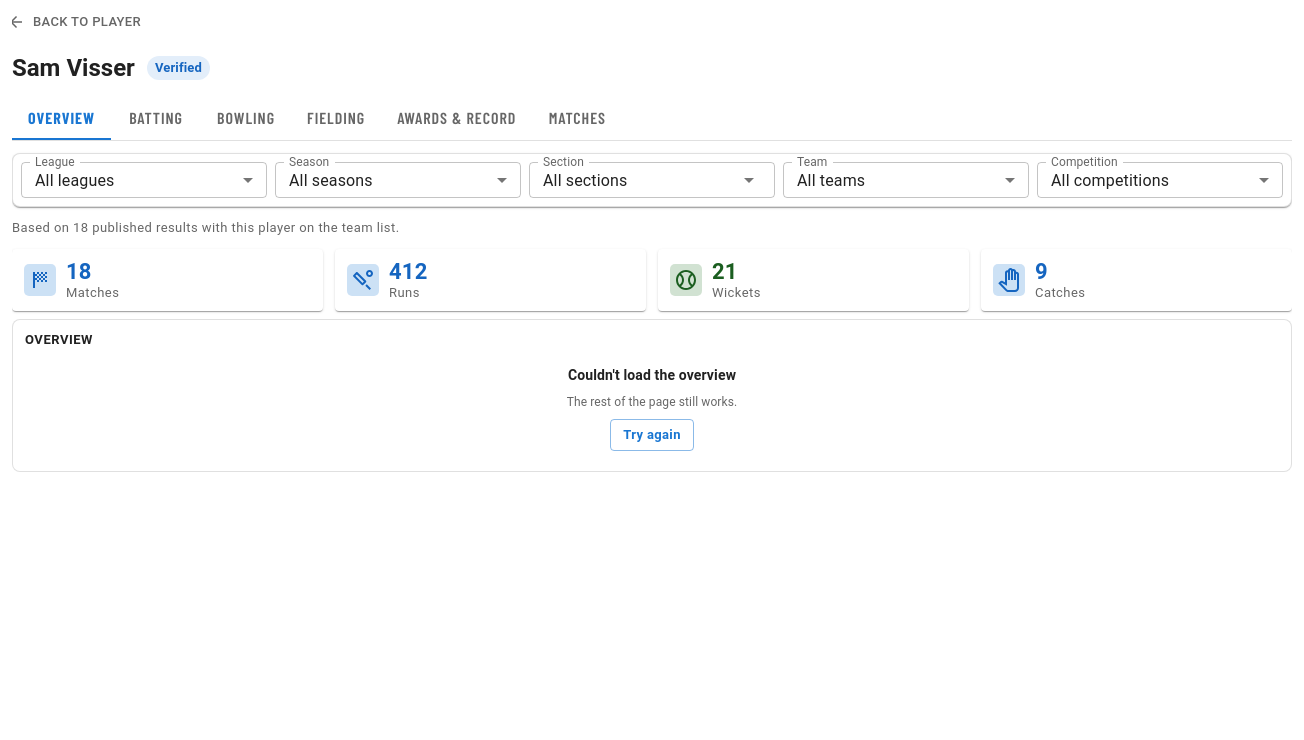
Test: Player Overview tab › failure and empty states › a failed overview read is one error card with Try again; the tiles stay, and Try again loads the charts
This screenshot has width=1304, height=740.
Expected: the message shows "Couldn't load the overview", [568,367,736,383]
Expected: the text with test id "tile-runs-value" reads "412", [389,259,428,284]
Click the button "Try again" at (652, 435), box [610,419,694,451]
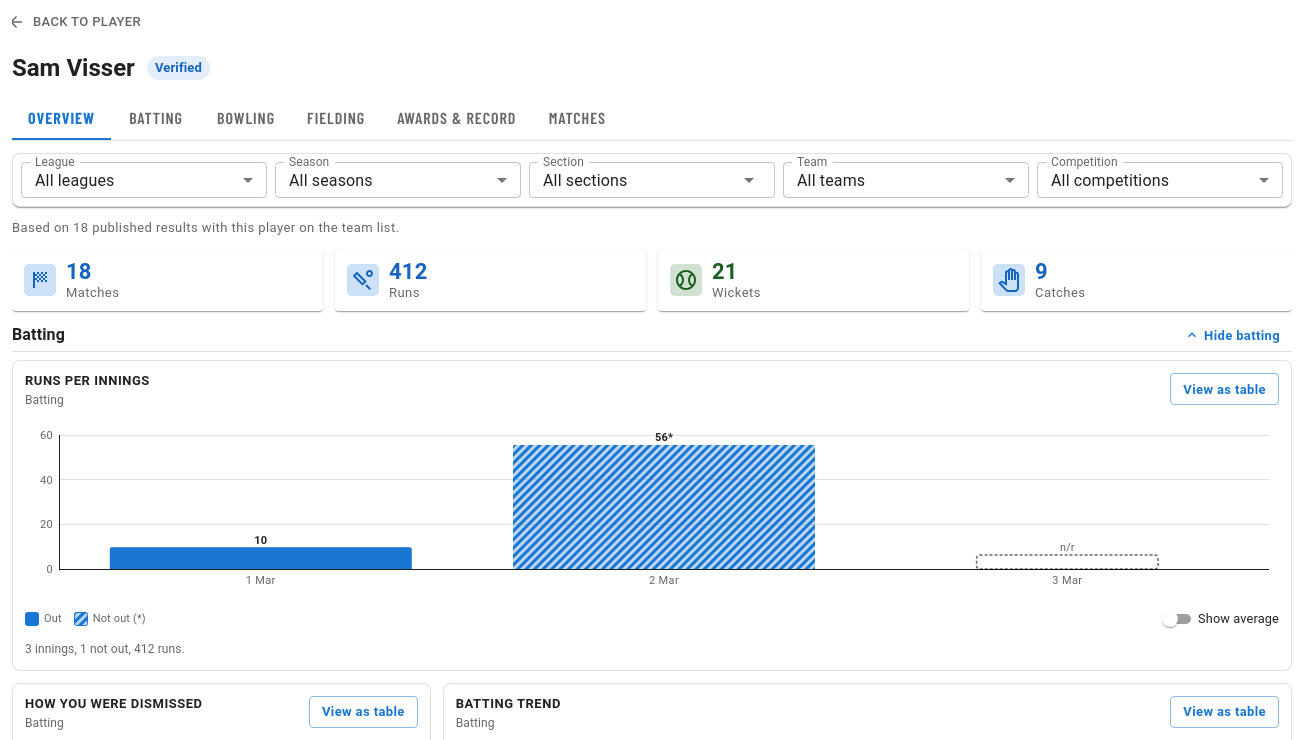
Now the element with test id "dashboard-card-runs-per-innings" is shown, box [12,360,1292,671]
Now the message "Couldn't load the overview The rest of the page still works. Try again" is gone
